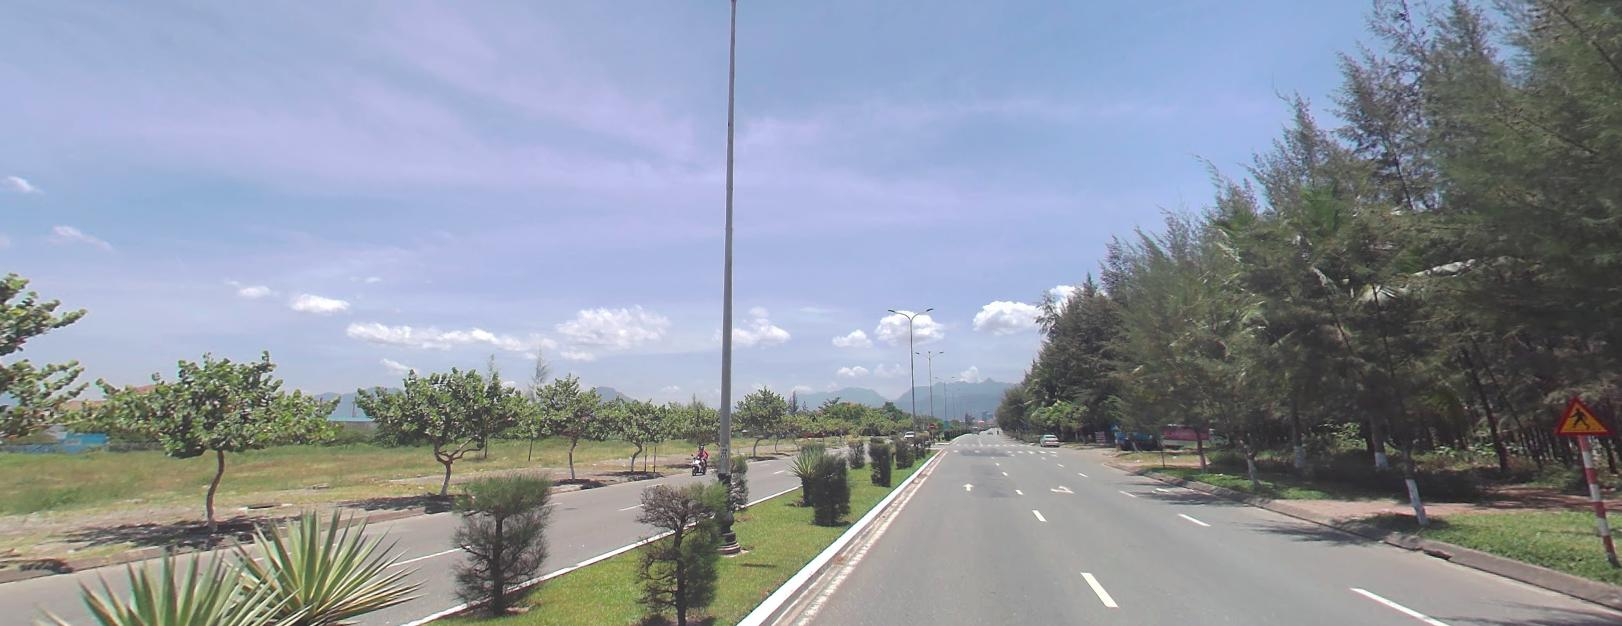Nguy hiem: (1550, 395, 1613, 440)
